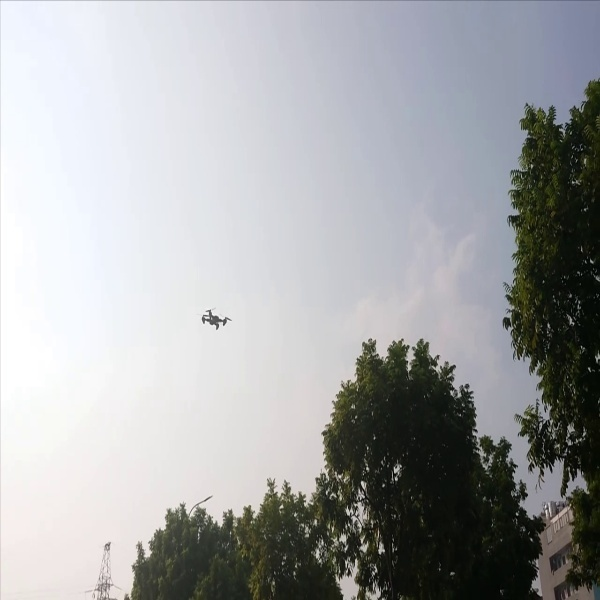drone: (193, 303, 234, 332)
